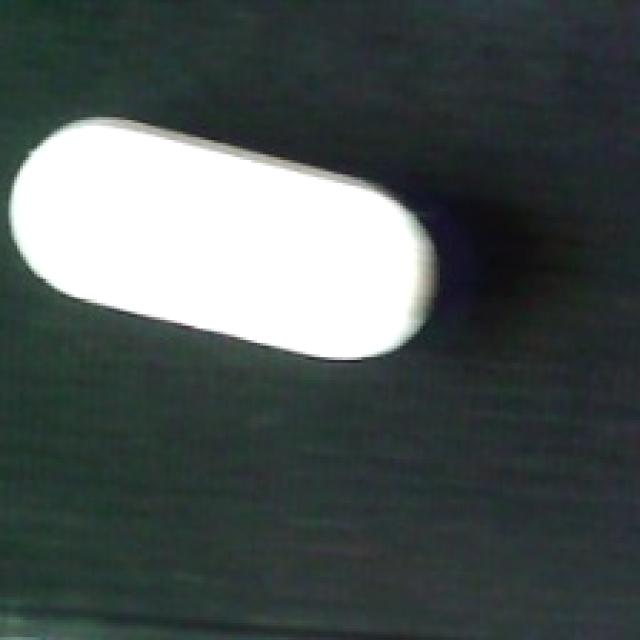no-defect: (0, 117, 440, 364)
